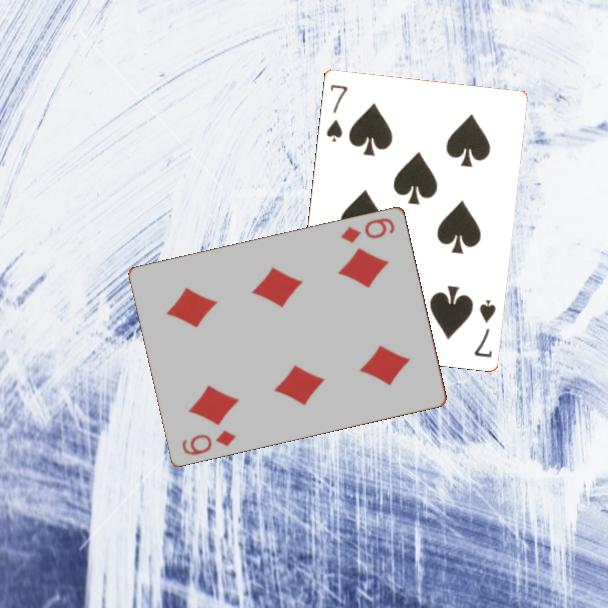d06: (337, 214, 398, 246), (179, 426, 239, 458)
s07: (470, 296, 498, 360), (323, 80, 350, 144)
